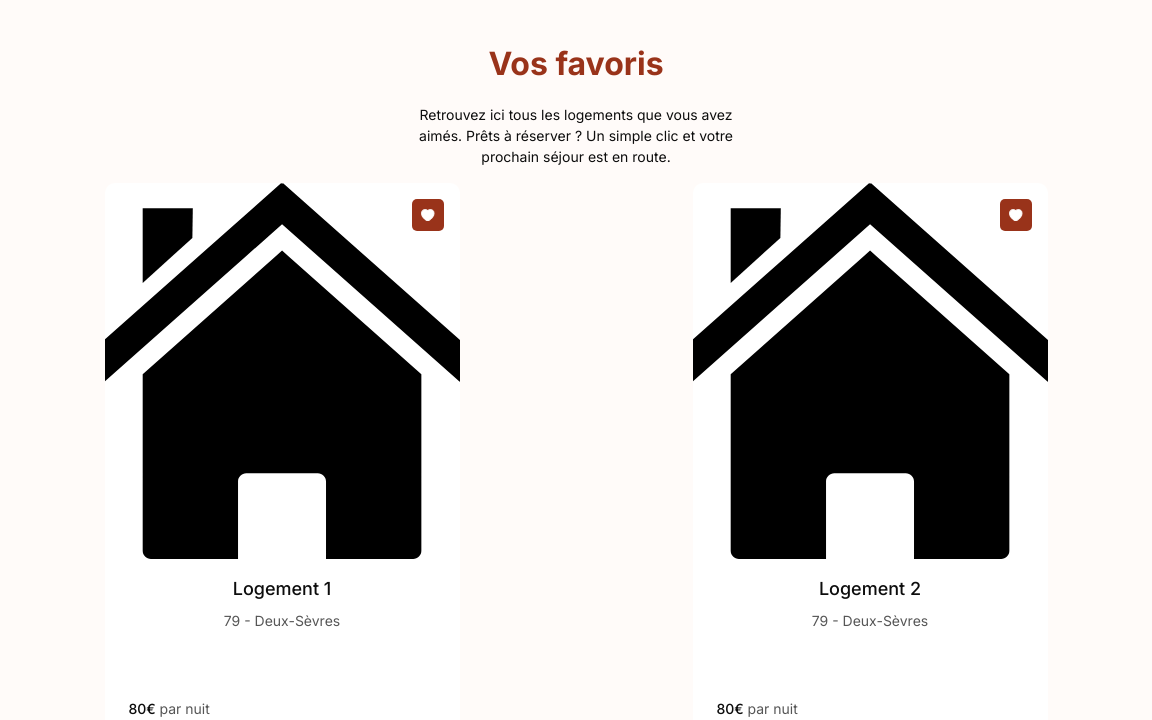
Test: FavoritesList › should disappear if user removes property from favorites
The width and height of the screenshot is (1152, 720).
Check: the heading "Logement 2" is shown, box [819,578,921,599]
# L'utilisateur retire le logement 2 de ses favoris
Click the button named "Retirer le logement Logement 2 des favoris" at (1016, 215), box [1000,199,1032,231]
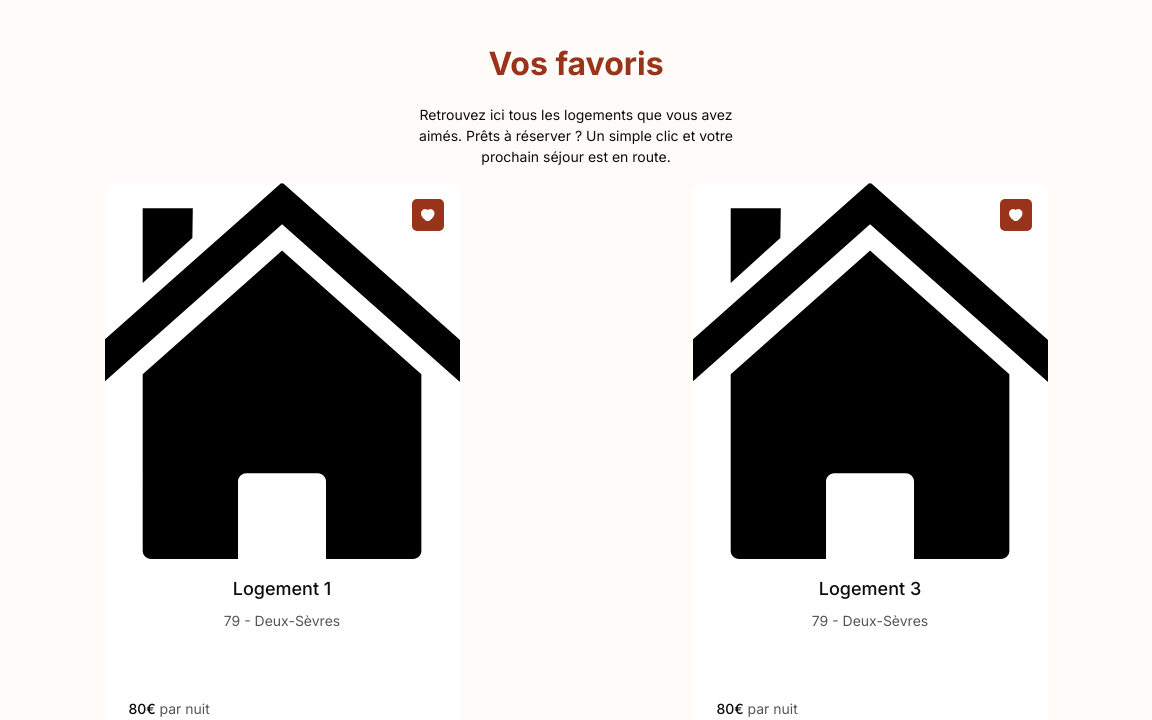
Check: the link "Logement 2" is gone
